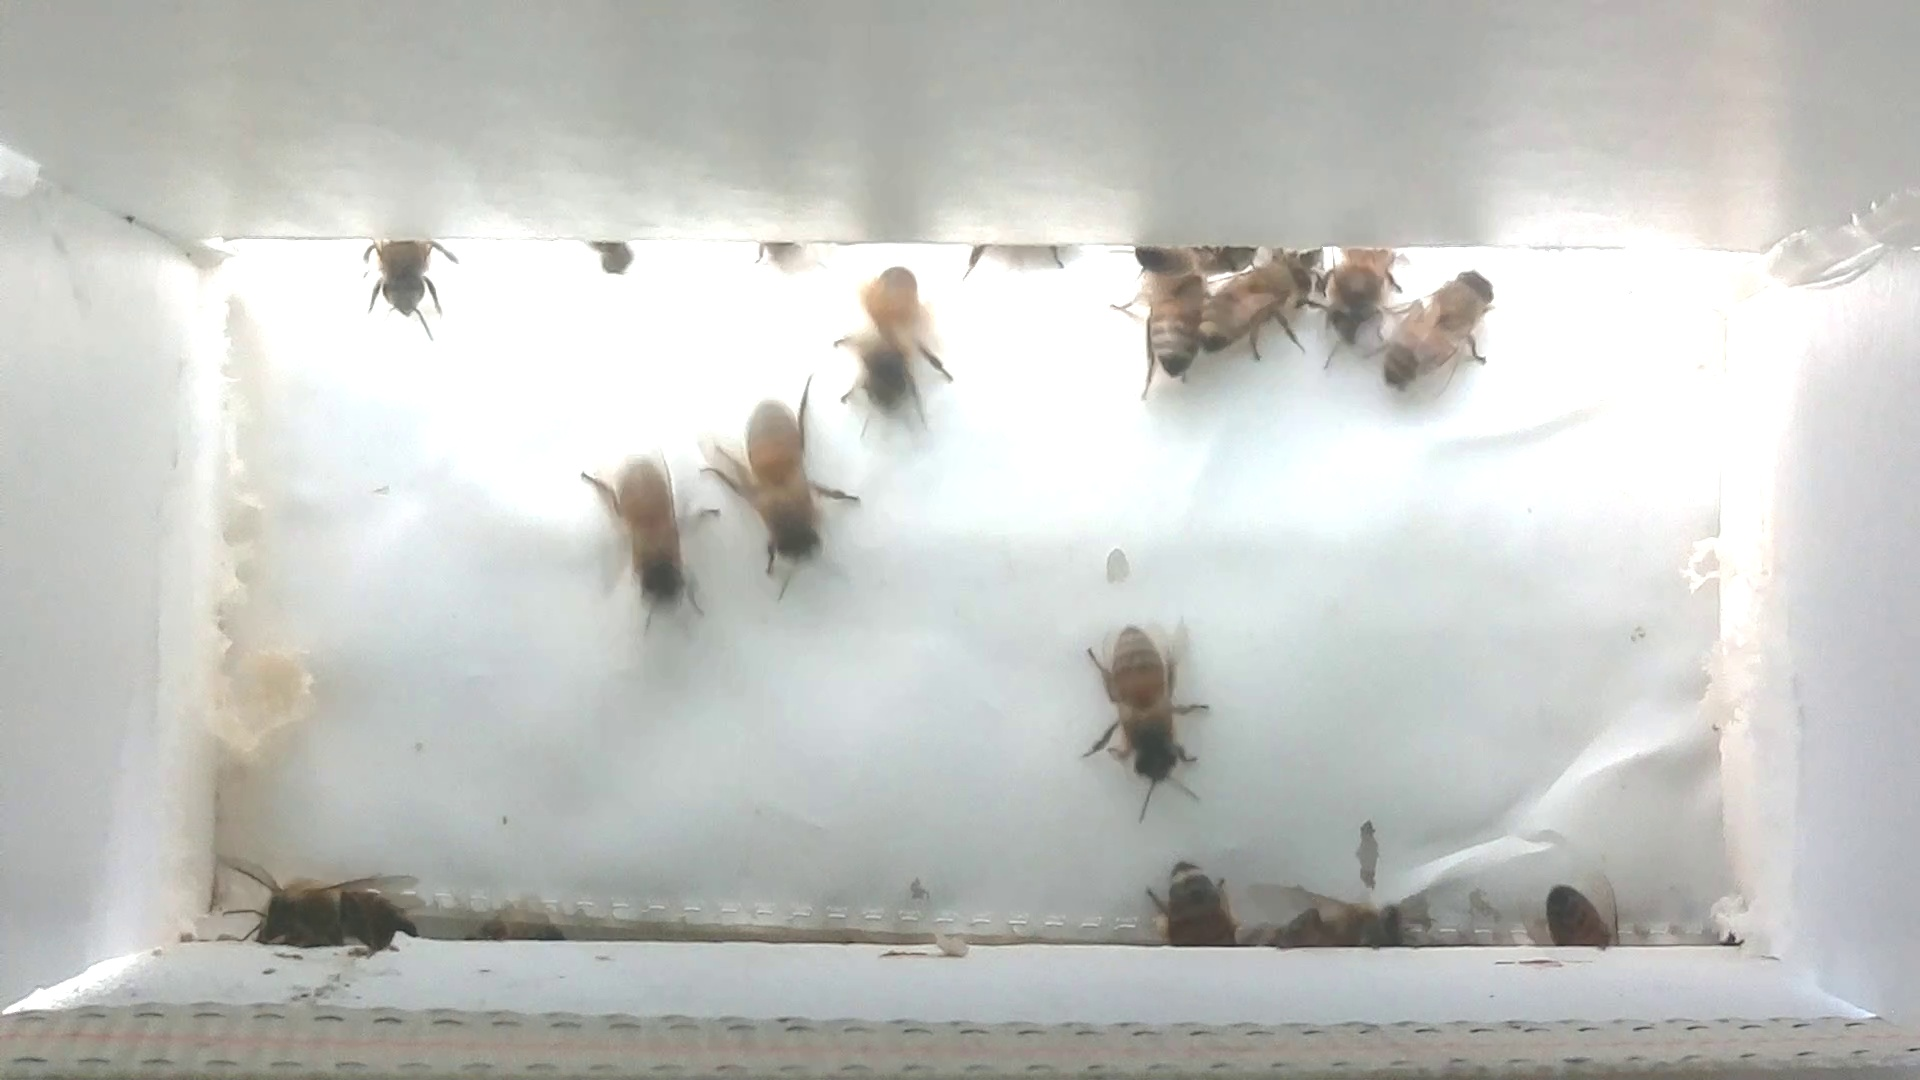bee: (1065, 609, 1230, 816), (698, 381, 865, 582), (825, 249, 955, 438), (574, 450, 715, 621), (222, 845, 431, 960), (1365, 264, 1509, 421), (1205, 243, 1320, 375), (345, 220, 465, 344), (1124, 248, 1216, 400), (1319, 236, 1414, 376), (1259, 884, 1429, 960), (1134, 849, 1247, 953), (1526, 870, 1630, 967)
